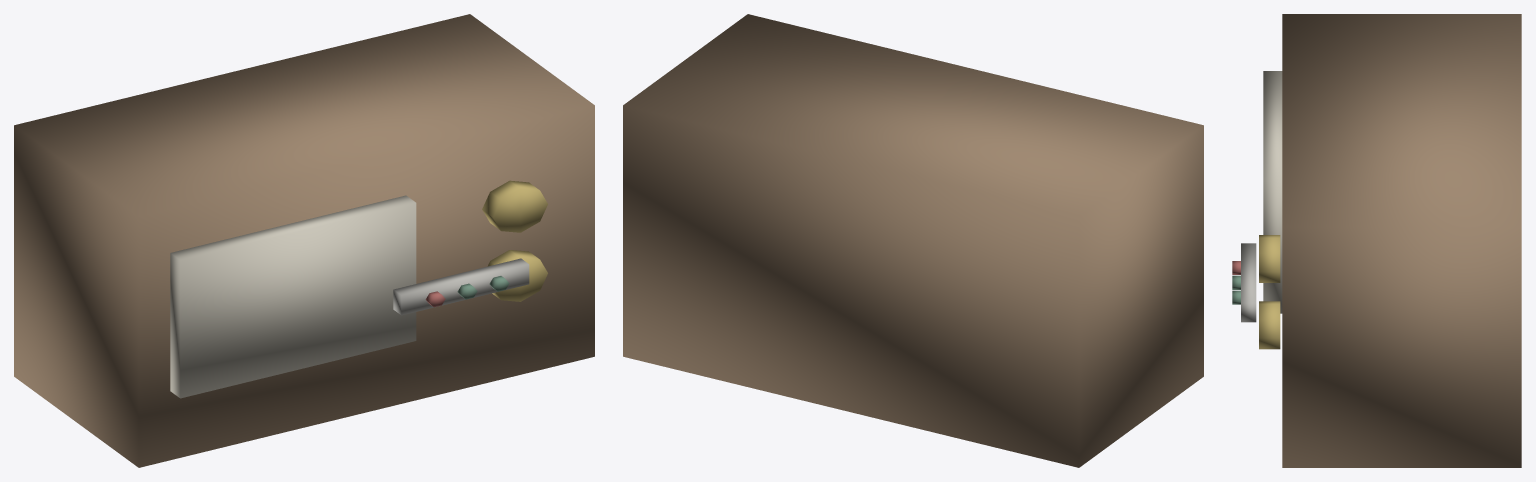
The model's file is tube_radio__squat.glb.
3 renders of one model, left to right at view 1: azimuth 30°, elevation 25°; view 2: azimuth 150°, elevation 25°; view 3: azimuth 270°, elevation 25°, orthographic. The views are drawn at different scales.
Parts seen in each view (by area): view 1: world; view 2: world; view 3: world.
Part boxes in pixels (x1,y1,x2,y2): world: (14,14,594,467); world: (623,14,1203,467); world: (1232,14,1521,467).
Size of the model in its own units: 0.638 by 0.336 by 0.3656.
